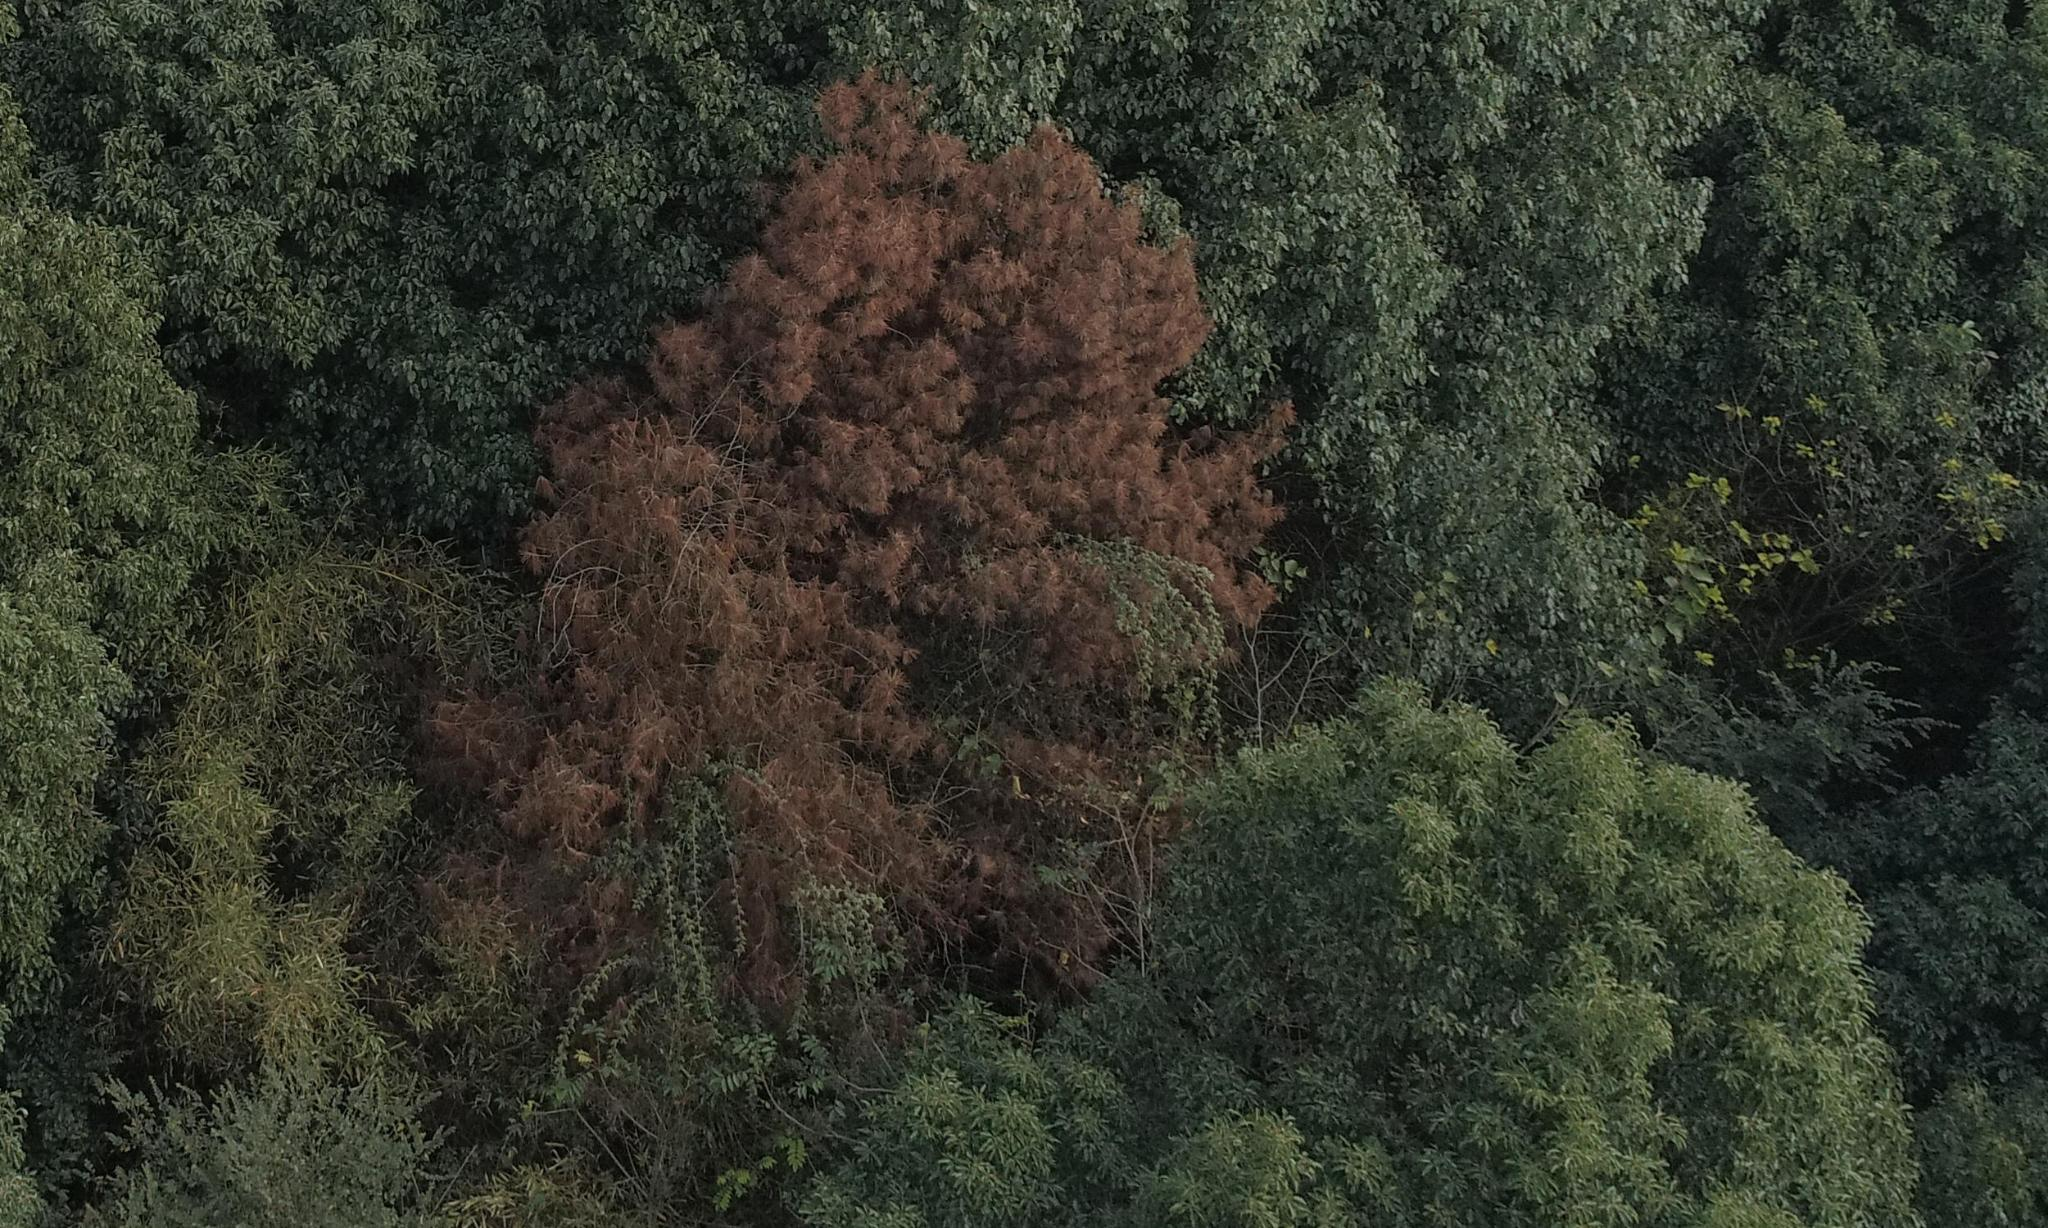heavy: (452, 70, 1285, 997)
